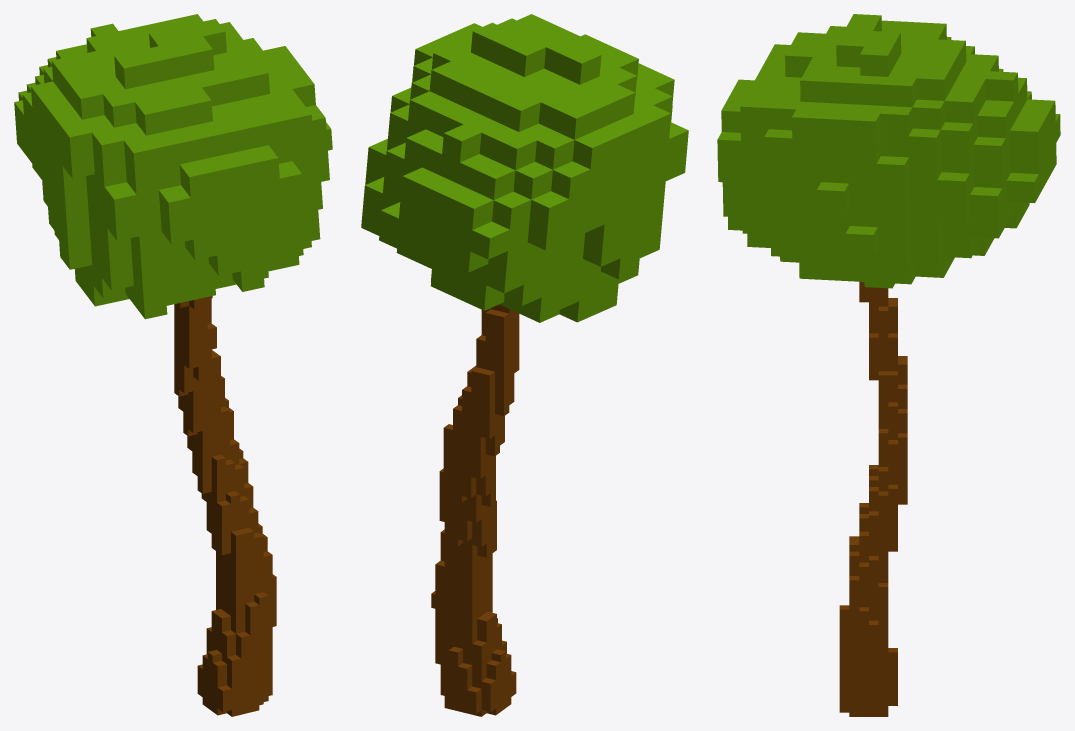
Rendered from Voxeltree_02_green.glb.
3 renders of one model, left to right at view 1: azimuth 30°, elevation 25°; view 2: azimuth 150°, elevation 25°; view 3: azimuth 270°, elevation 25°, orthographic. The views are drawn at different scales.
Visible parts, largest first — view 1: Voxeltree_02_green_Wood_0; view 2: Voxeltree_02_green_Wood_0; view 3: Voxeltree_02_green_Wood_0.
Part boxes in pixels (bbox=[...]): Voxeltree_02_green_Wood_0: bbox=[14, 14, 332, 716]; Voxeltree_02_green_Wood_0: bbox=[361, 14, 688, 716]; Voxeltree_02_green_Wood_0: bbox=[717, 14, 1060, 716].
Size of the model in its own units: 3.76 by 9.21 by 4.42.
